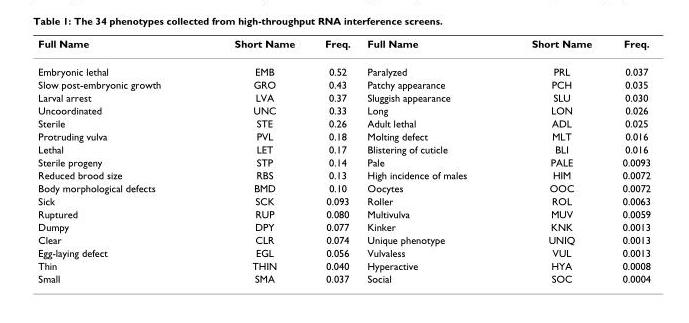table: (37, 37, 650, 284)
table column: (37, 37, 197, 284), (358, 37, 498, 284), (197, 37, 309, 284), (498, 37, 606, 284), (309, 37, 358, 284), (606, 37, 650, 284)
table column header: (37, 37, 650, 57)
table row: (37, 37, 650, 57), (37, 57, 650, 77), (37, 77, 650, 90), (37, 90, 650, 103), (37, 103, 650, 116), (37, 116, 650, 129), (37, 129, 650, 142), (37, 142, 650, 155), (37, 155, 650, 168), (37, 168, 650, 181), (37, 181, 650, 194), (37, 194, 650, 207), (37, 207, 650, 220), (37, 220, 650, 233), (37, 245, 650, 258), (37, 258, 650, 271), (37, 271, 650, 284), (37, 233, 650, 245)
